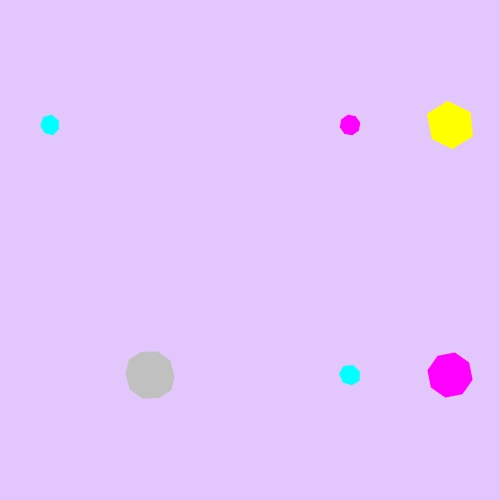decagon: (121, 348, 180, 402)
heptagon: (335, 361, 365, 390), (36, 111, 65, 139)
hexagon: (421, 101, 479, 149)
octagon: (424, 349, 477, 402), (335, 110, 365, 140)
